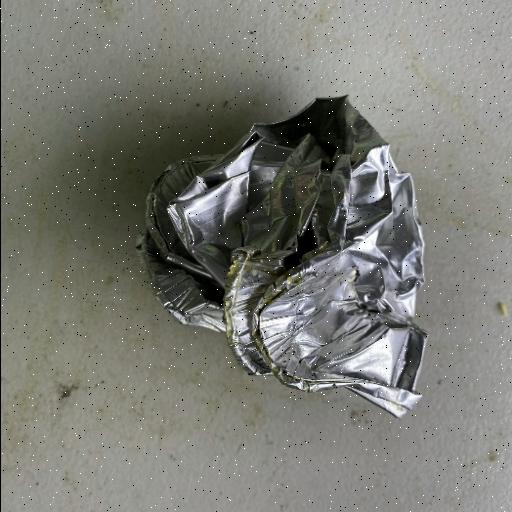Metal: (135, 93, 431, 419)
